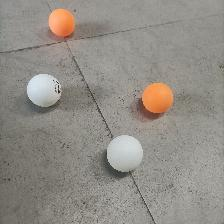WhiteBall: (105, 133, 143, 172), (26, 72, 63, 108)
YellowBall: (141, 82, 173, 113), (46, 8, 75, 36)
